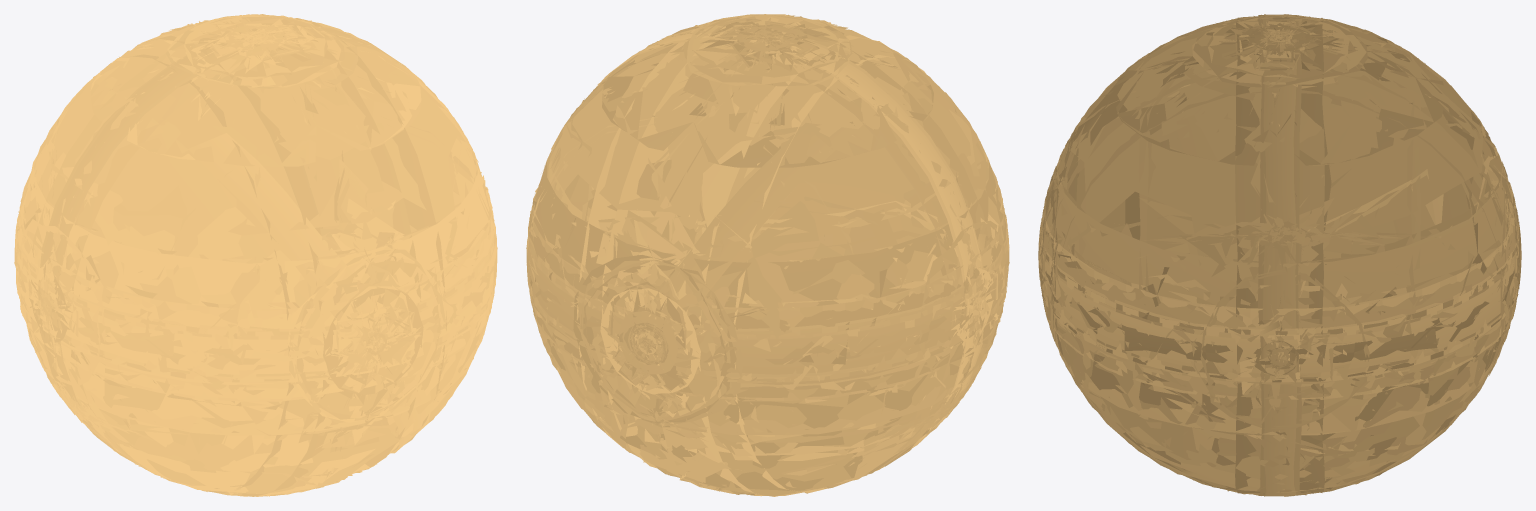
3 views of the same model, side by side, from view 1: azimuth 30°, elevation 25°; view 2: azimuth 150°, elevation 25°; view 3: azimuth 270°, elevation 25° (orthographic).
Parts seen in each view (by area): view 1: 20D-20D-equipment; view 2: 20D-20D-equipment; view 3: 20D-20D-equipment.
Part boxes in pixels (<box>): 20D-20D-equipment: <box>14,14,497,496</box>; 20D-20D-equipment: <box>526,14,1009,496</box>; 20D-20D-equipment: <box>1038,14,1521,496</box>.
Size of the model in its own units: 2 by 2 by 2.
